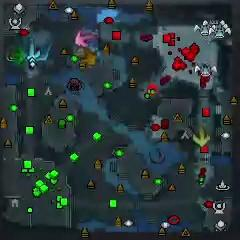x1: (75, 30, 92, 48)
x2: (194, 128, 209, 146)
x3: (24, 43, 43, 63)
x4: (12, 46, 27, 64)
x5: (79, 48, 98, 66)
